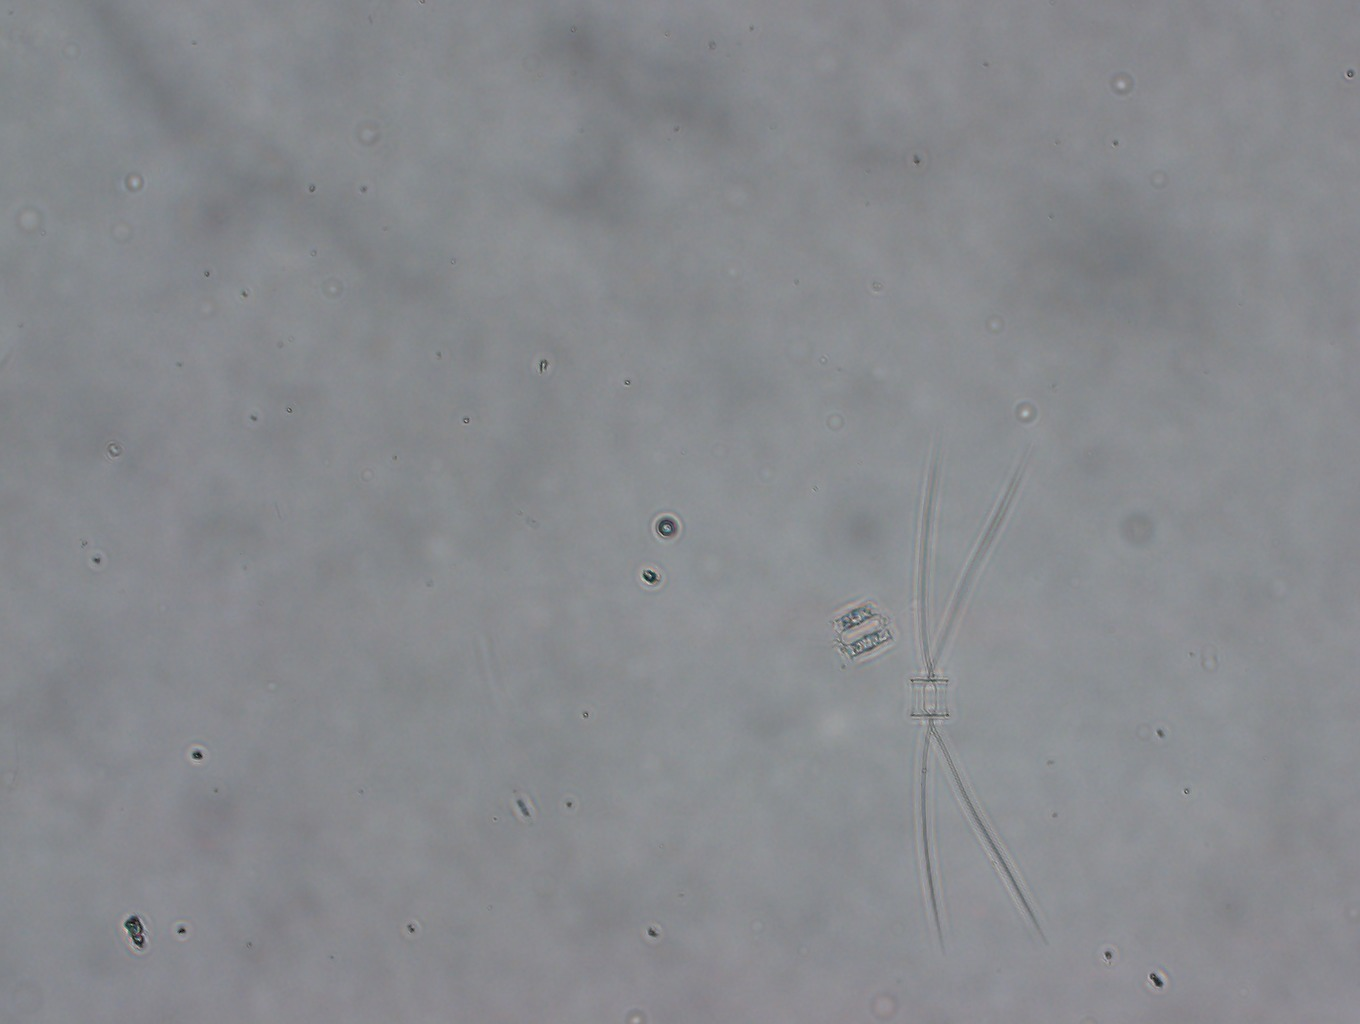chaetoceros: (894, 411, 1072, 965)
